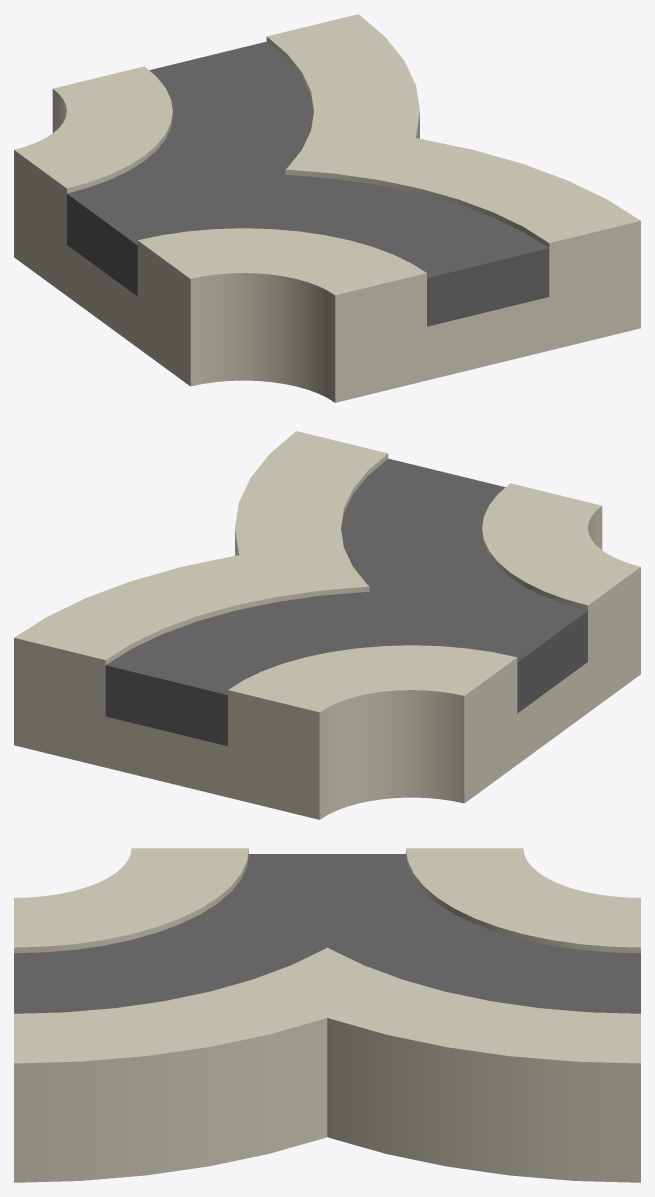
The model's file is tile144.fbx.
3 renders of one model, top to bottom at view 1: azimuth 30°, elevation 25°; view 2: azimuth 150°, elevation 25°; view 3: azimuth 270°, elevation 25°, orthographic. The views are drawn at different scales.
Parts seen in each view (by area): view 1: tile144; view 2: tile144; view 3: tile144.
Part boxes in pixels (<box>): tile144: <box>14,14,640,402</box>; tile144: <box>14,431,640,819</box>; tile144: <box>14,848,640,1182</box>.
Size of the model in its own units: 8.12 by 2.1 by 10.
